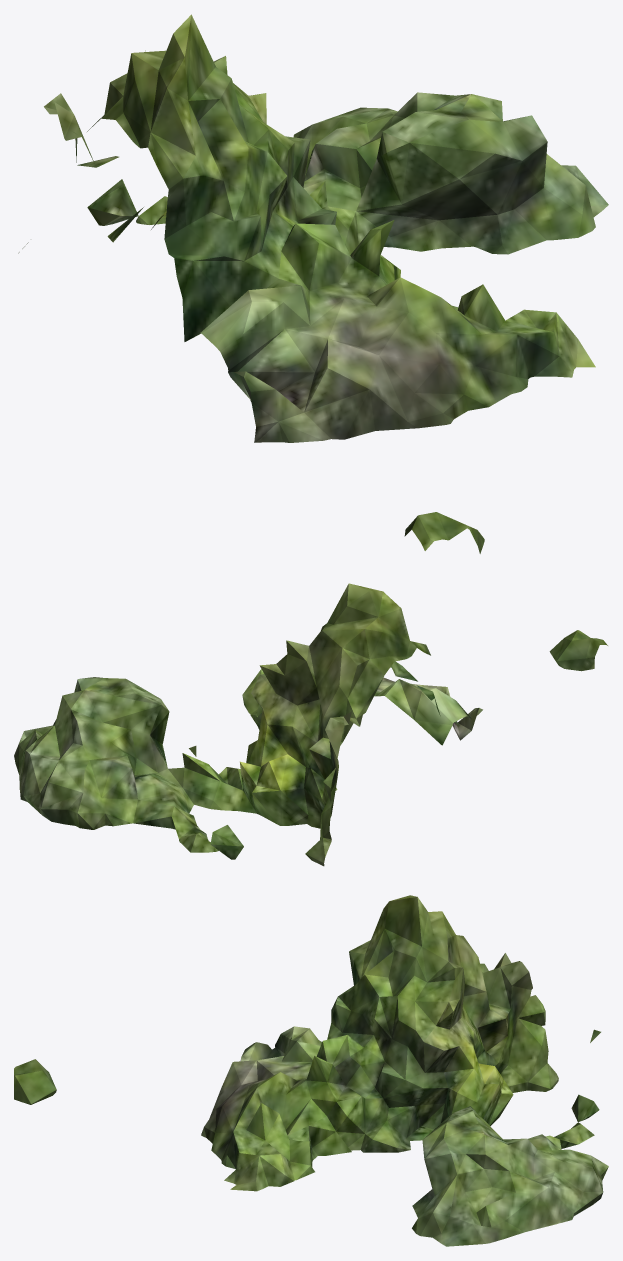
3 views of the same model, one above another, from view 1: azimuth 30°, elevation 25°; view 2: azimuth 150°, elevation 25°; view 3: azimuth 270°, elevation 25° (orthographic). The views are drawn at different scales.
Bounding box in the file's own units: 13.67 × 8.03 × 20.83.
1 material, 1 textured.
